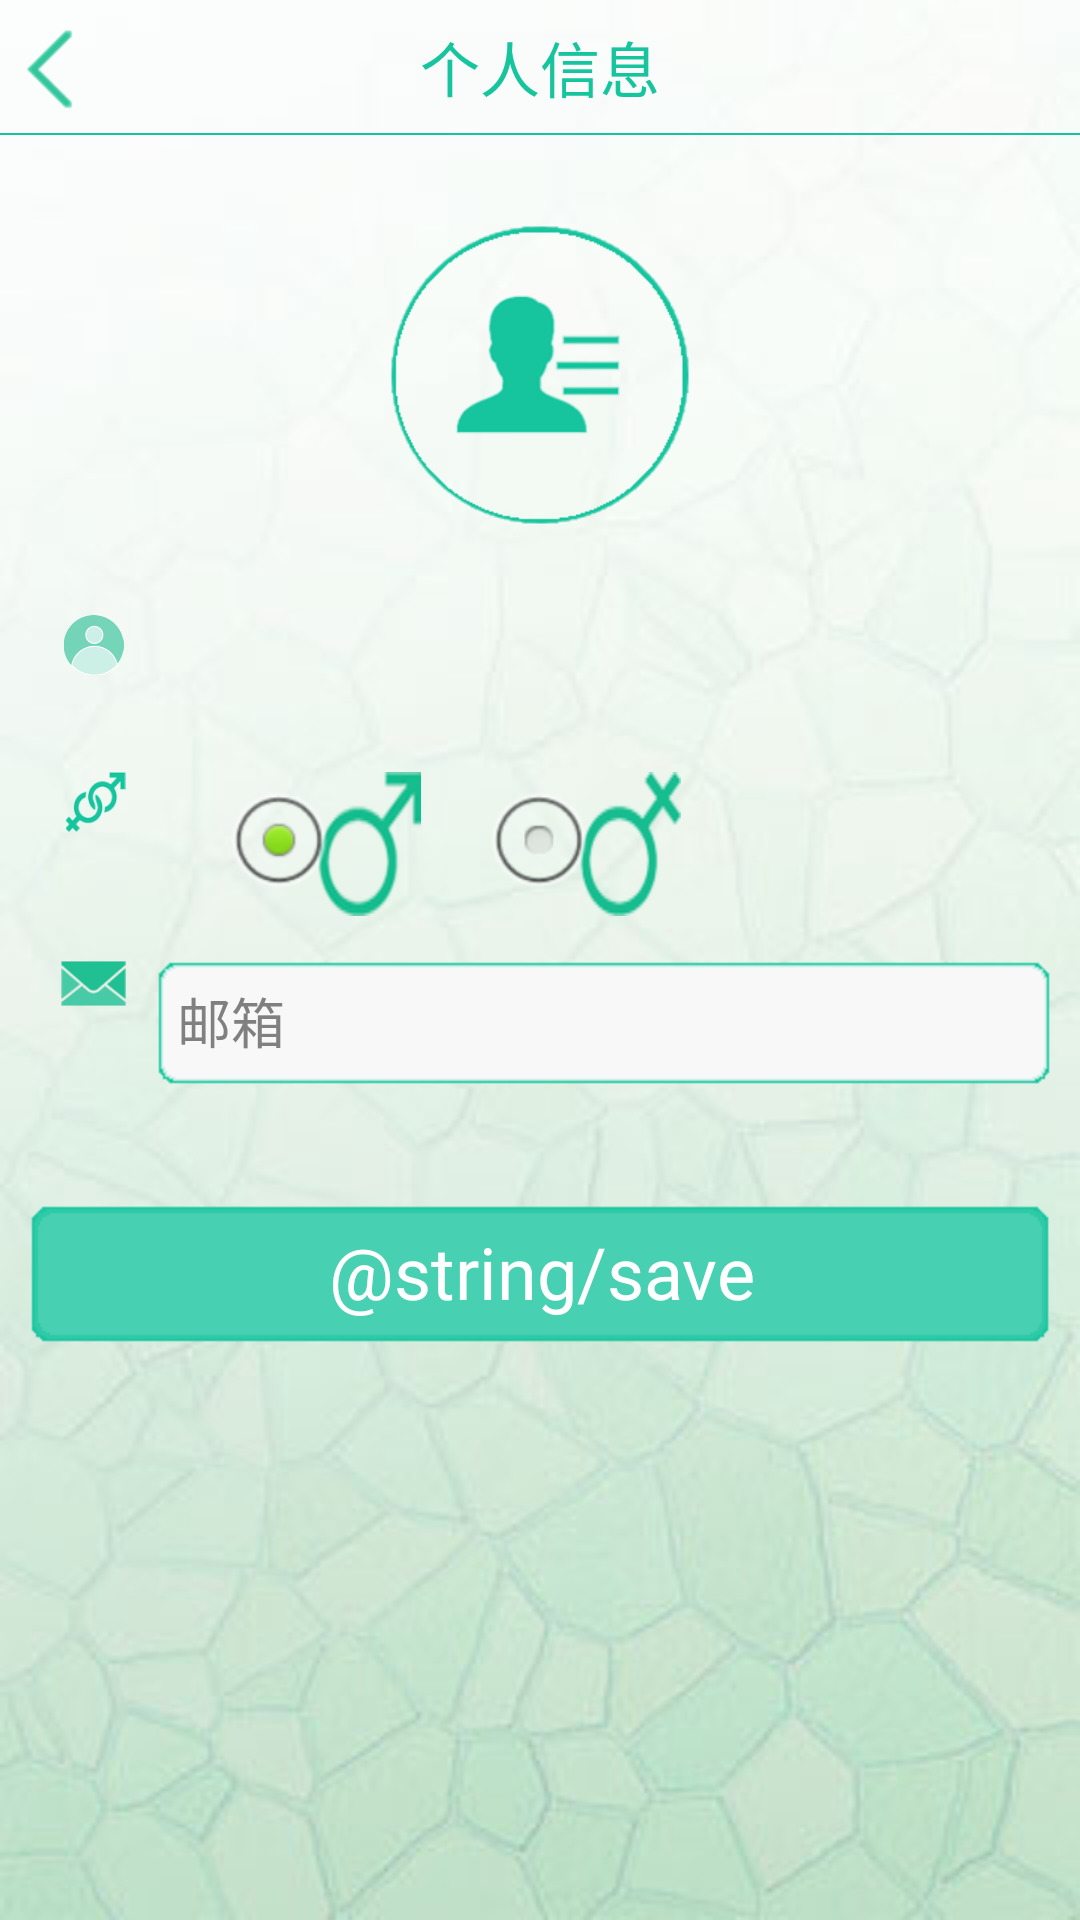

Icons on this 1080×1920 Android screen, each with its box as (x1=x1, y1=y1, x2=x2, y2=y2):
female radio: (x1=496, y1=772, x2=681, y2=916)
gender: (x1=66, y1=772, x2=126, y2=832)
mail: (x1=61, y1=961, x2=126, y2=1006)
male radio: (x1=236, y1=772, x2=421, y2=916)
user: (x1=64, y1=615, x2=124, y2=674)
